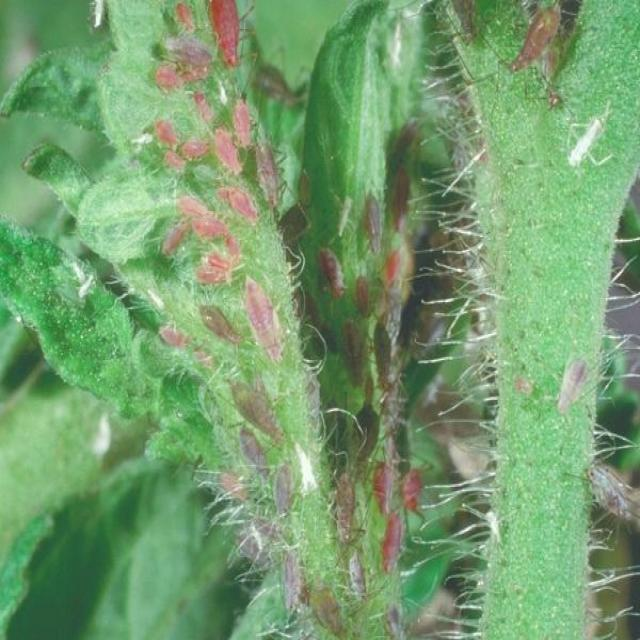Aphid-Grouped-: (144, 27, 336, 569)
